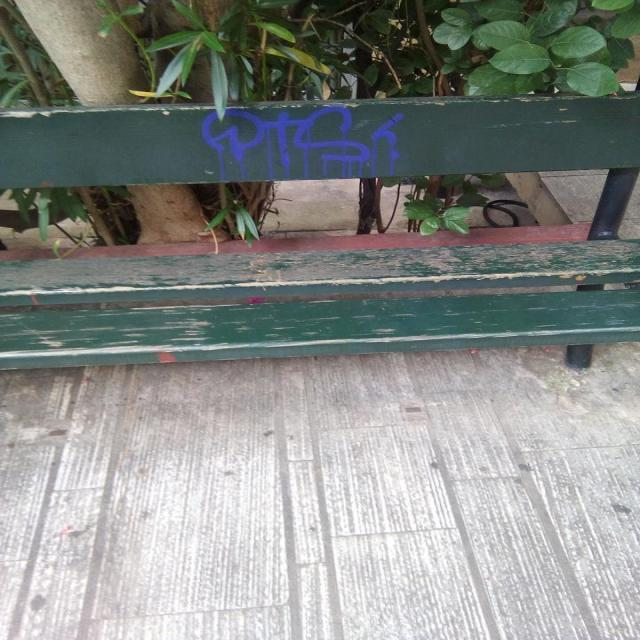nonspitting: (196, 105, 404, 177)
